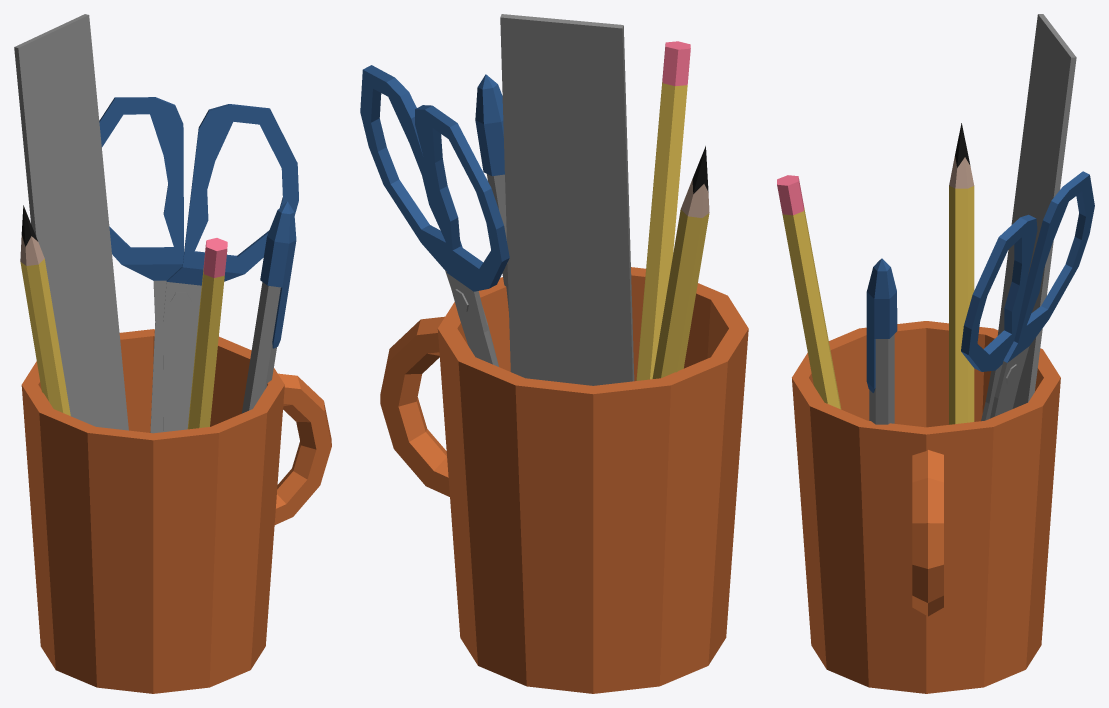
The model's file is Mug With Office Tool.glb.
3 renders of one model, left to right at view 1: azimuth 30°, elevation 25°; view 2: azimuth 150°, elevation 25°; view 3: azimuth 270°, elevation 25°, orthographic. The views are drawn at different scales.
Visible parts, largest first — view 1: Mug with office tools; view 2: Mug with office tools; view 3: Mug with office tools.
Part boxes in pixels (x1=…): Mug with office tools: x1=14, y1=14, x2=331, y2=693; Mug with office tools: x1=360, y1=14, x2=748, y2=693; Mug with office tools: x1=777, y1=14, x2=1094, y2=693.
Bounding box in the file's own units: 0.1057 × 0.1991 × 0.097.
Materials: 1 (1 with a texture image).
